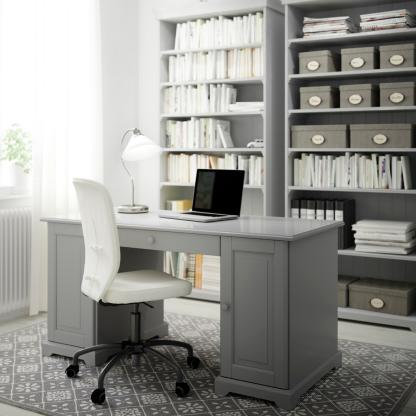Chair: (67, 176, 205, 406)
